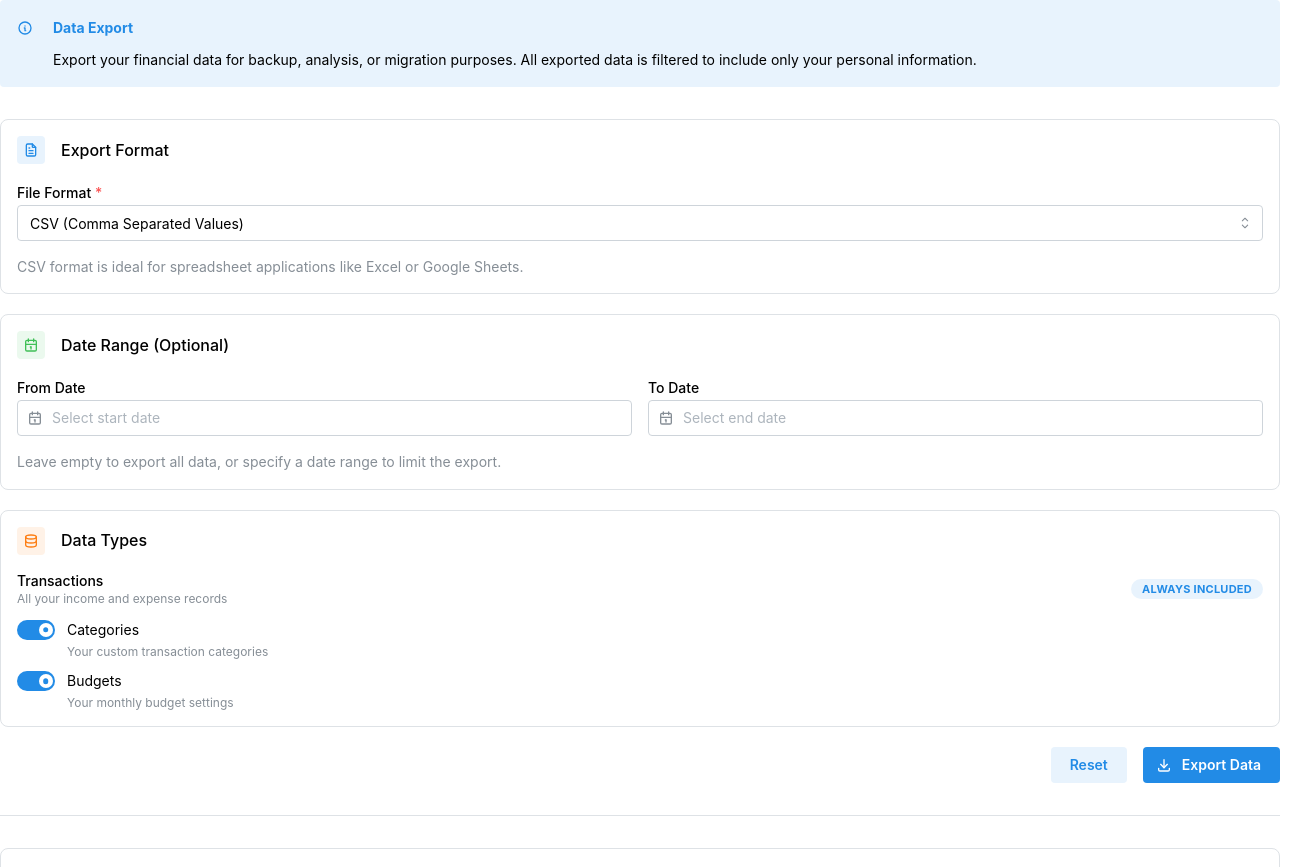
Scenario: DataExportForm › should show progress during export
The image size is (1292, 867).
Click the button "Export Data" at {"x": 1211, "y": 765}, box [1143,747,1280,783]
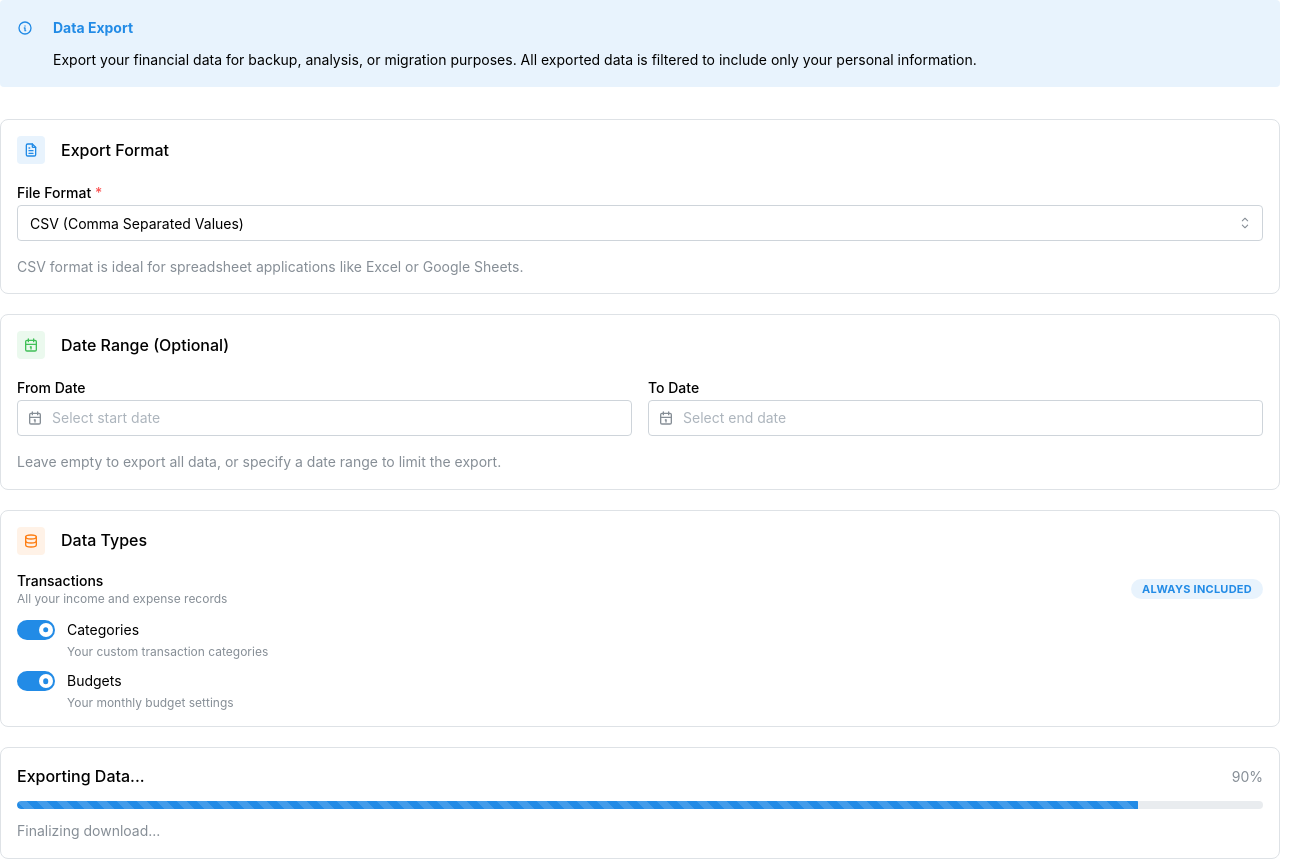
Expected: the text "Exporting Data..." is shown, [17,764,145,789]
Expected: the text "Preparing your data..." is shown, [17,822,160,839]
